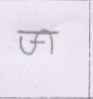i_matra: (41, 29, 56, 54)
